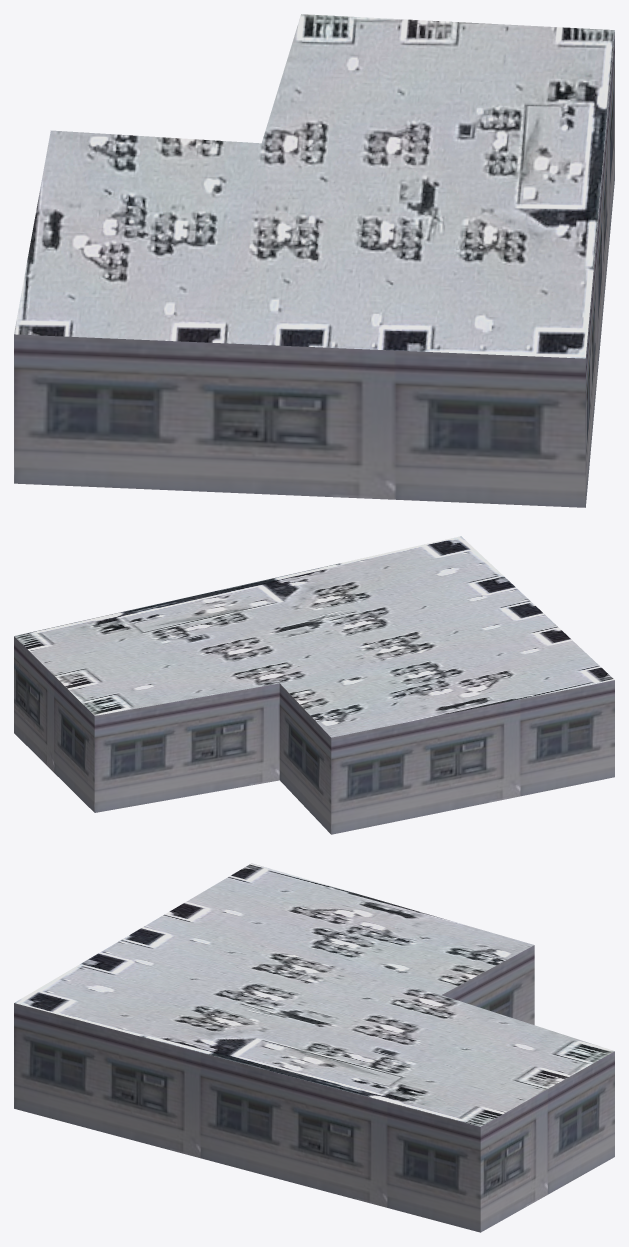
File: ResTex__1115.fbx
3 views of the same model, one above another, from view 1: azimuth 30°, elevation 25°; view 2: azimuth 150°, elevation 25°; view 3: azimuth 270°, elevation 25° (orthographic). The views are drawn at different scales.
Parts seen in each view (by area): view 1: CityEngineMaterial_8_m, CityEngineMaterial_1_m; view 2: CityEngineMaterial_8_m, CityEngineMaterial_1_m; view 3: CityEngineMaterial_8_m, CityEngineMaterial_1_m.
Part boxes in pixels (box(x1,y1,x2,y2)): CityEngineMaterial_8_m: box(14, 14, 614, 358); CityEngineMaterial_1_m: box(14, 32, 614, 507); CityEngineMaterial_8_m: box(14, 536, 614, 737); CityEngineMaterial_1_m: box(14, 636, 614, 834); CityEngineMaterial_8_m: box(14, 863, 614, 1126); CityEngineMaterial_1_m: box(14, 945, 614, 1232).
Bounding box in the file's own units: 16.04 × 3 × 15.45.
2 materials, 2 textured.
